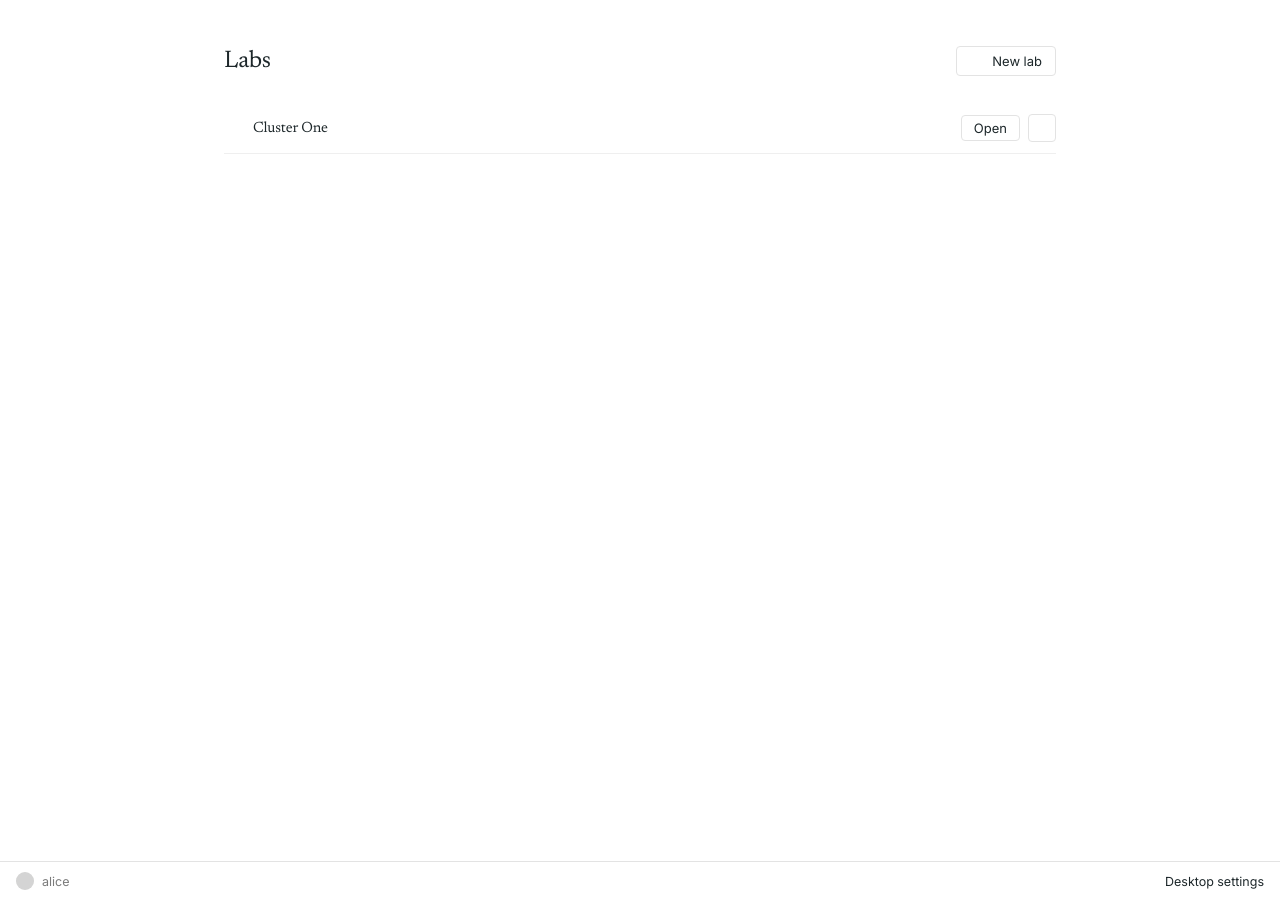
LabsList row click [§8 behavioral details] › row click opens; the More actions trigger, backdrop and menu items don't
Later steps or results of the test are not shown.
Expected: the text "Cluster One" is shown, [253,120,328,136]
Click the button named "More actions" at (1042, 128), box [1028,114,1056,142]
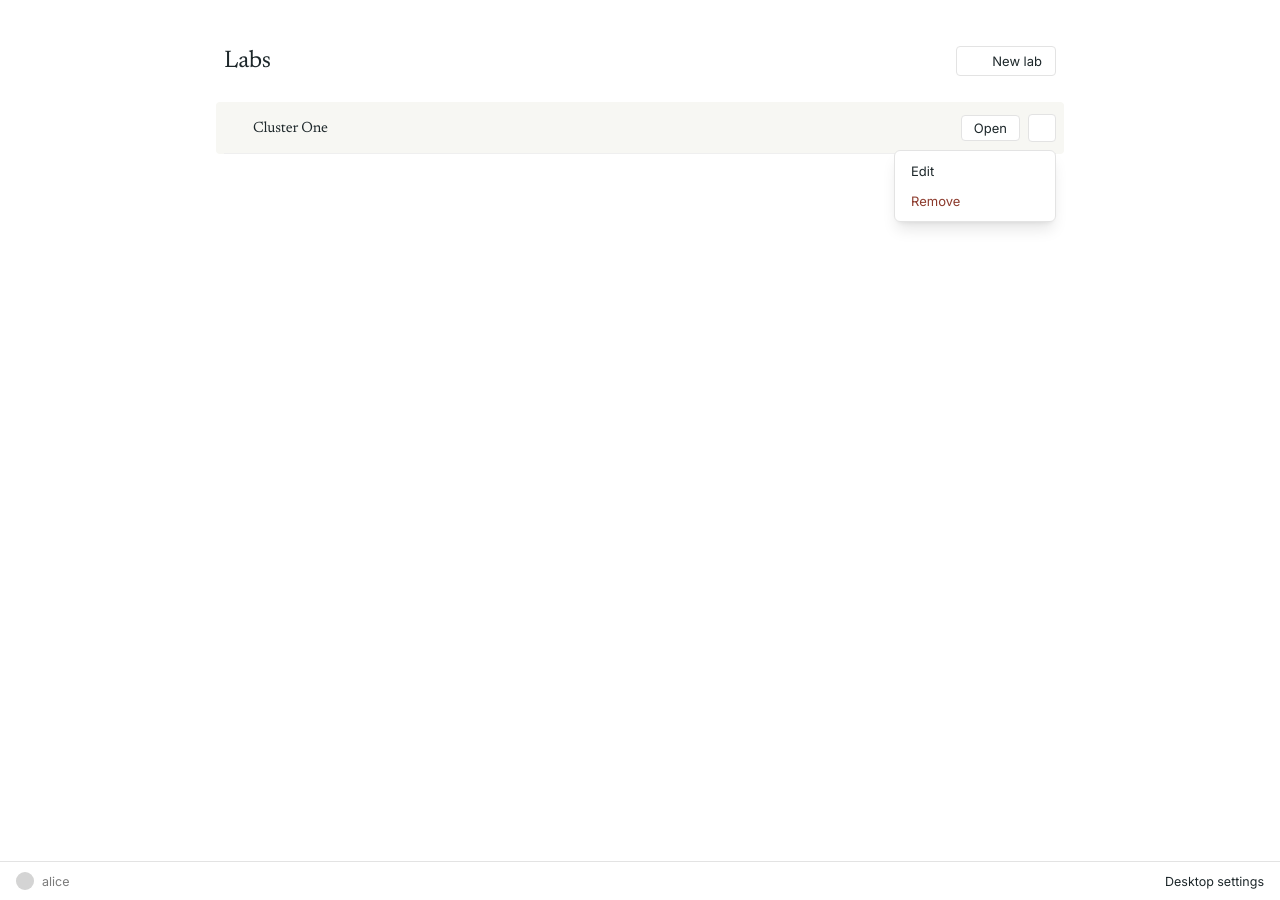
Click the element with class "ov__backdrop" at (640, 450), box [0,0,1279,899]
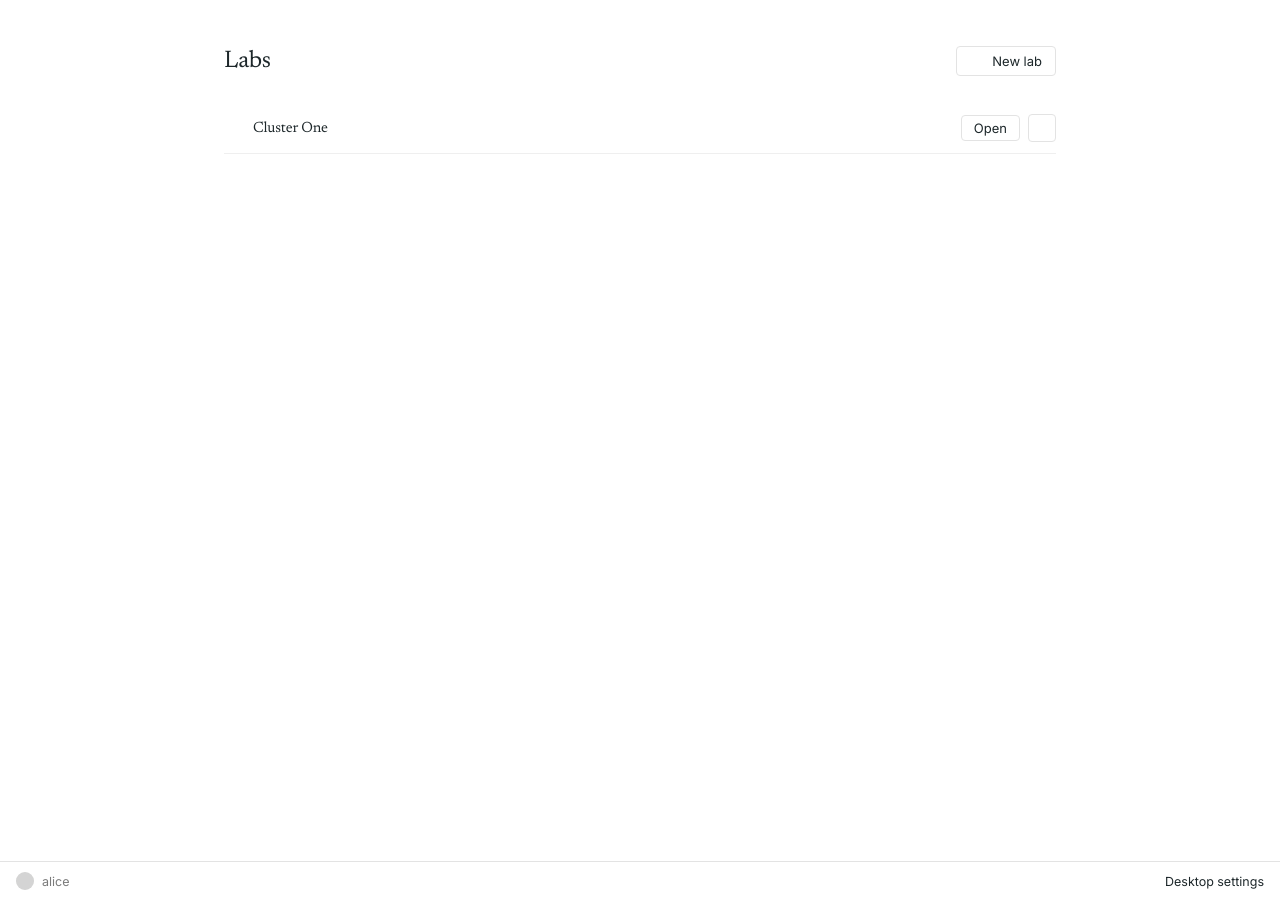
Click the button named "More actions" at (1042, 128), box [1028,114,1056,142]
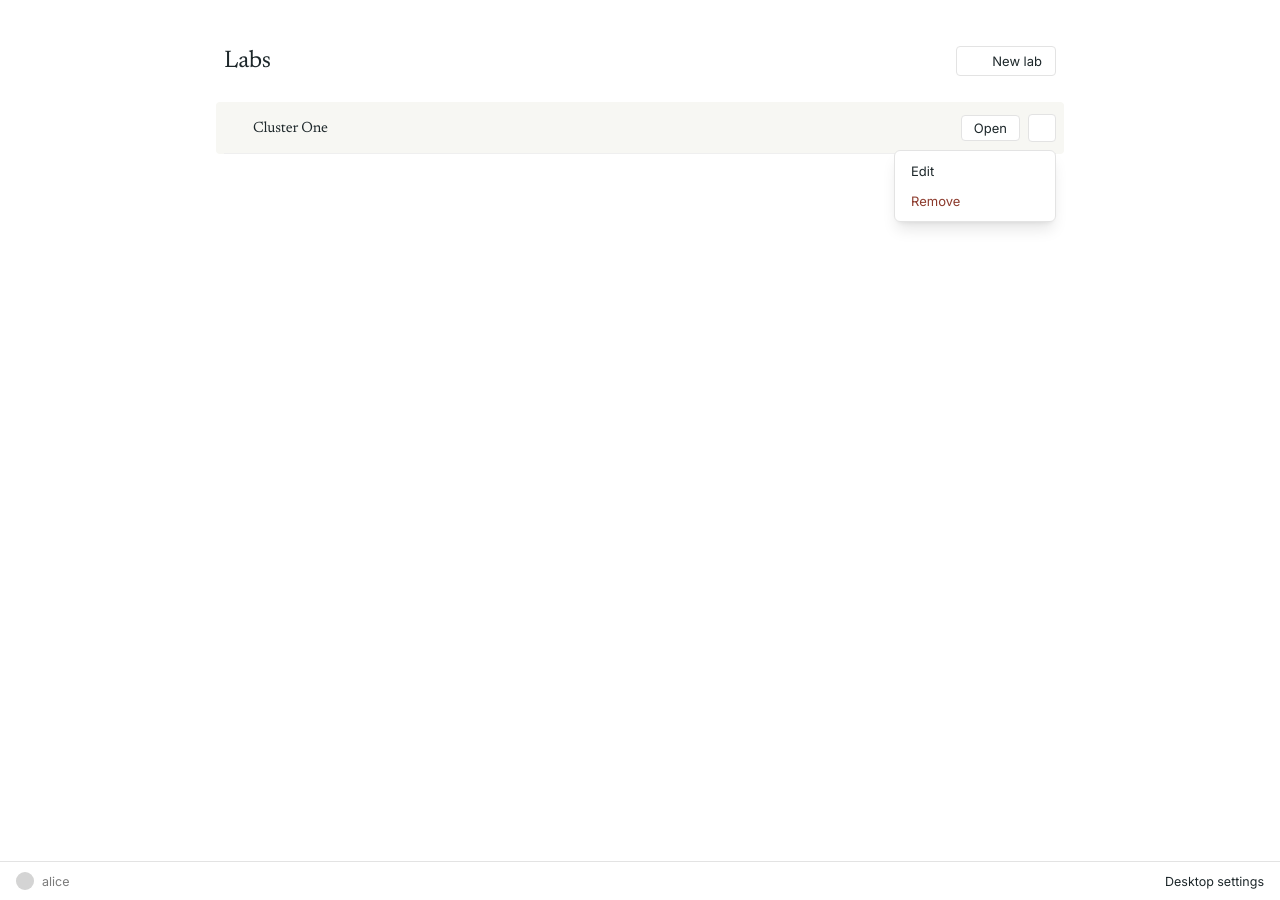
Click the menu item "Edit" at (975, 171), box [900,156,1050,186]
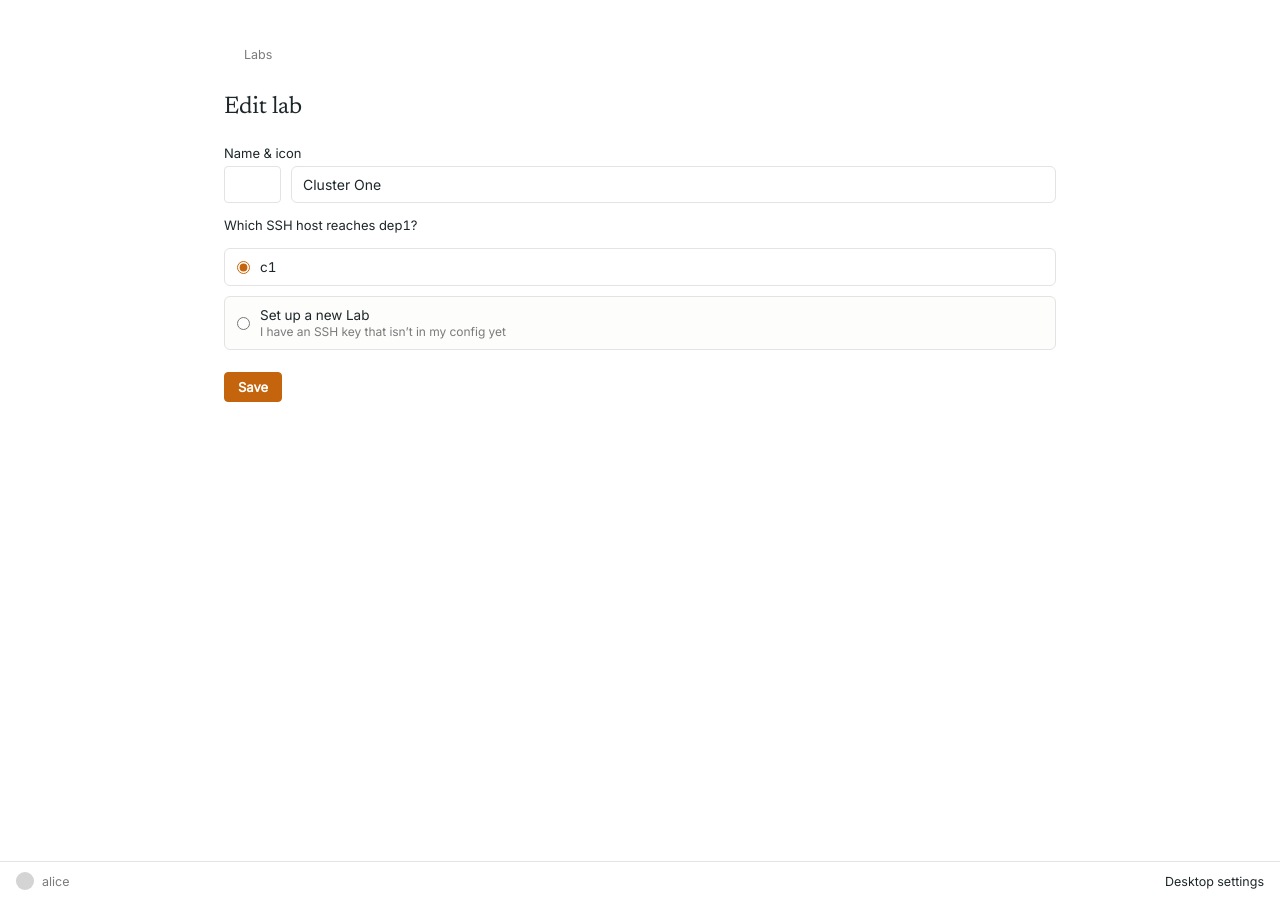
Expected: the heading "Edit lab" is shown, [224,95,302,119]
